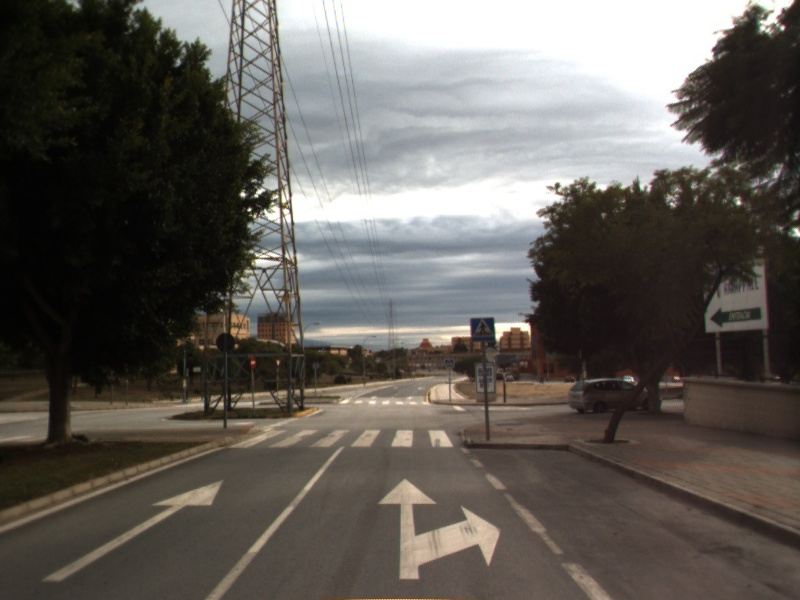STRAIGHT: (39, 478, 226, 584)
STRAIGHT_RIGHT: (375, 476, 503, 581)
